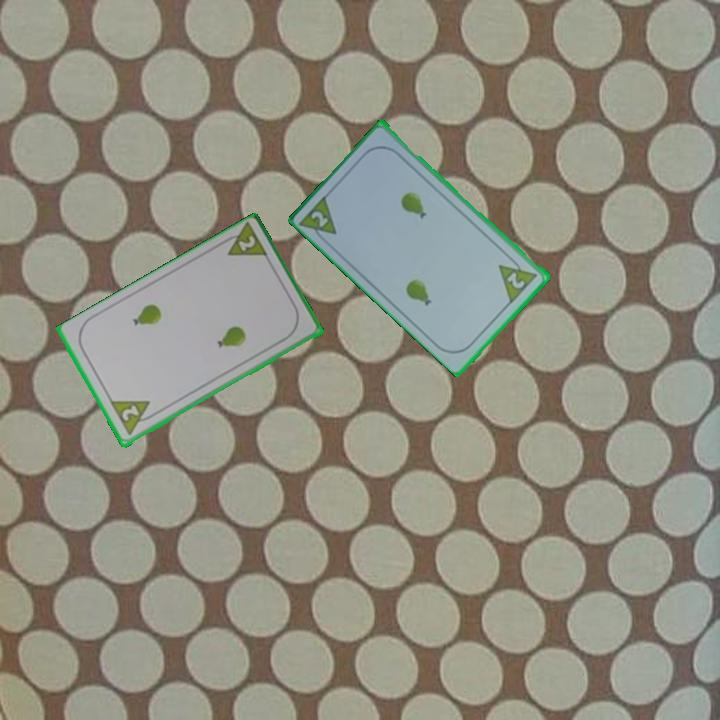2p: (495, 252, 541, 305), (216, 221, 271, 262), (107, 397, 159, 439), (307, 207, 332, 230)
